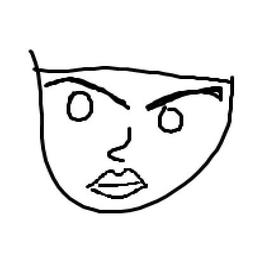cupid_mouth: (84, 166, 151, 201)
empty_eye: (64, 90, 94, 124), (157, 106, 187, 135)
frowning_eyebrow: (43, 74, 130, 110), (143, 84, 225, 112)
nose: (106, 124, 135, 161)
